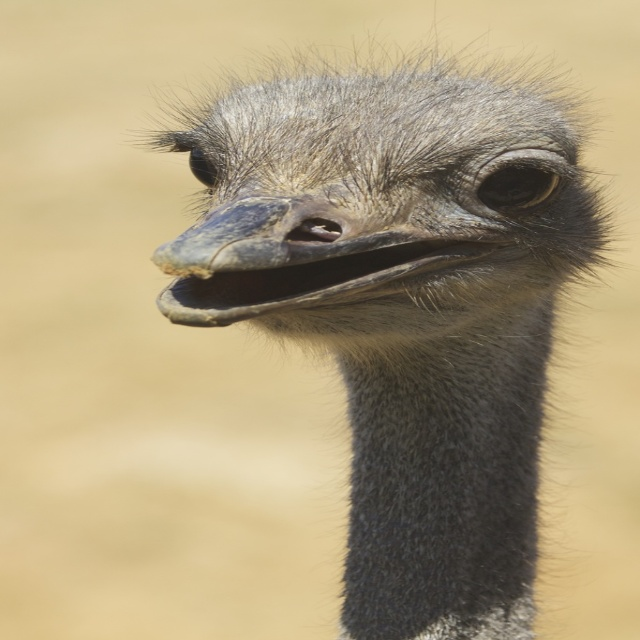Ostrich: (126, 60, 615, 640)
